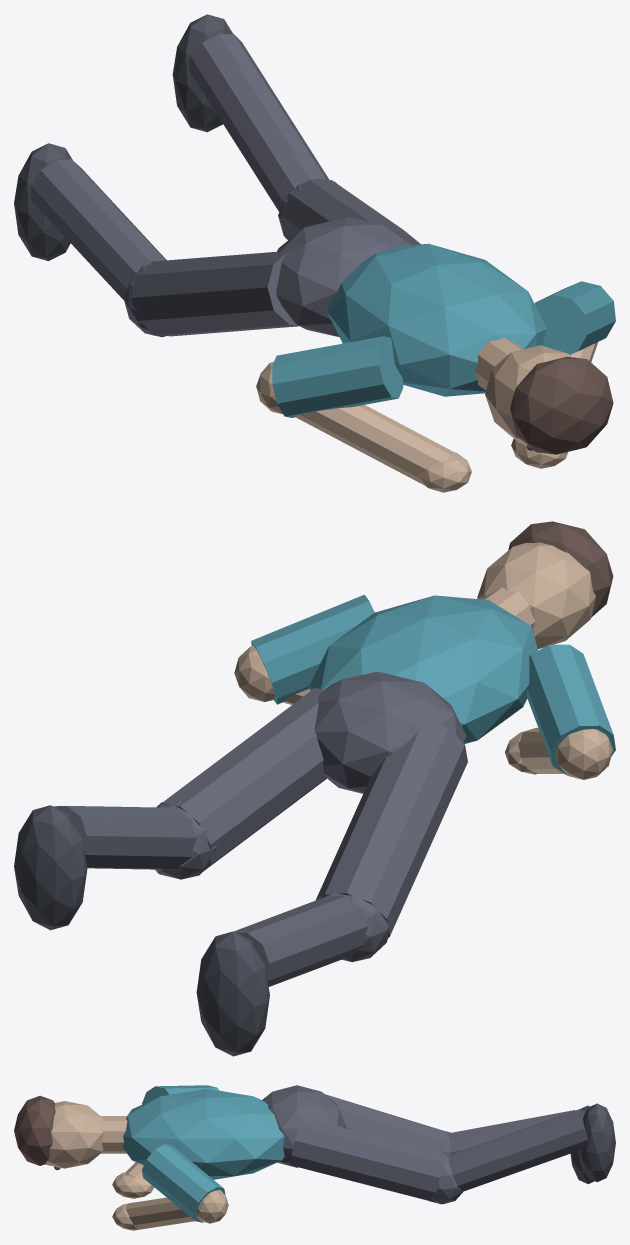
3 renders of one model, top to bottom at view 1: azimuth 30°, elevation 25°; view 2: azimuth 150°, elevation 25°; view 3: azimuth 270°, elevation 25°, orthographic. The views are drawn at different scales.
Visible parts, largest first — view 1: world; view 2: world; view 3: world.
Boxes of the visible parts, <box> form: world: <box>14,14,615,492</box>; world: <box>14,521,615,1056</box>; world: <box>14,1085,615,1230</box>.
Size of the model in its own units: 0.93 by 0.5125 by 2.07.
